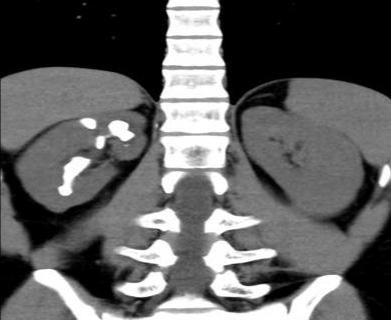Tas_Var: (61, 156, 92, 182), (105, 120, 141, 142), (49, 182, 81, 198), (78, 117, 98, 131), (94, 136, 108, 150), (122, 144, 133, 148)
